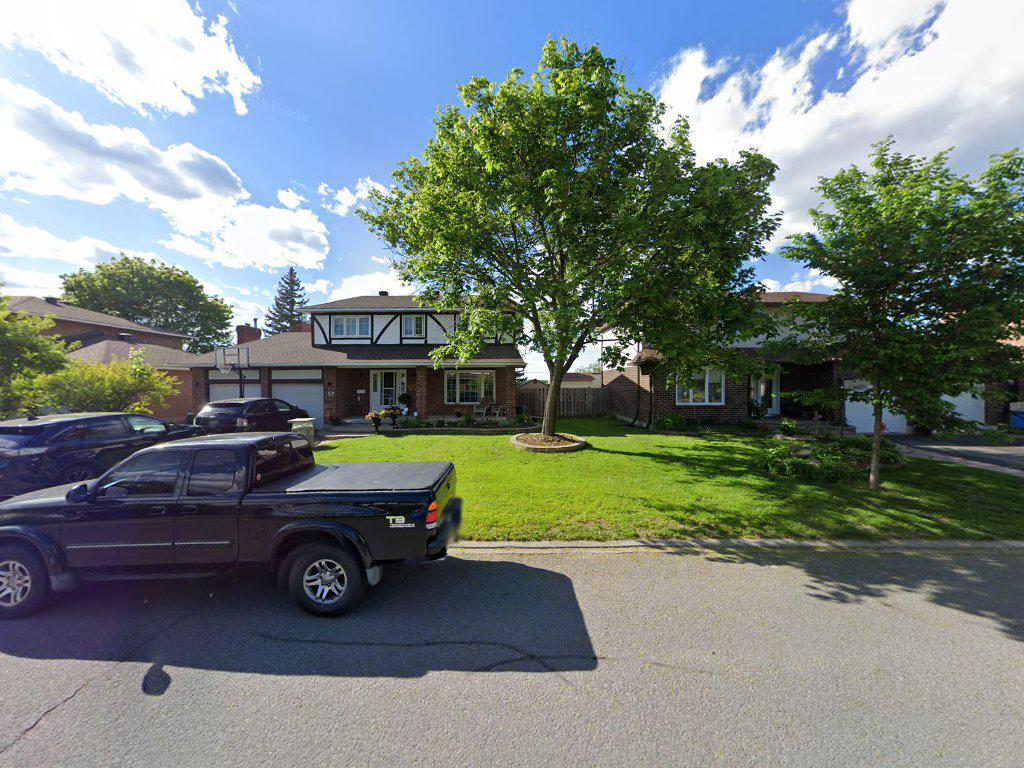trunk: (539, 354, 567, 451)
